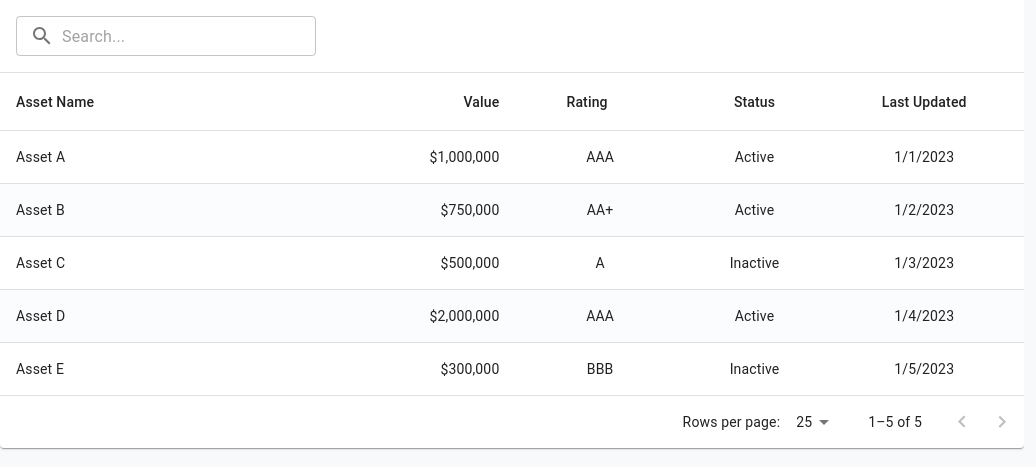
DataTable Component › handles sorting functionality
Note: Click on Name column header to sort
Step 1. Click the button "Asset Name" → (55, 102), box [16,94,94,110]
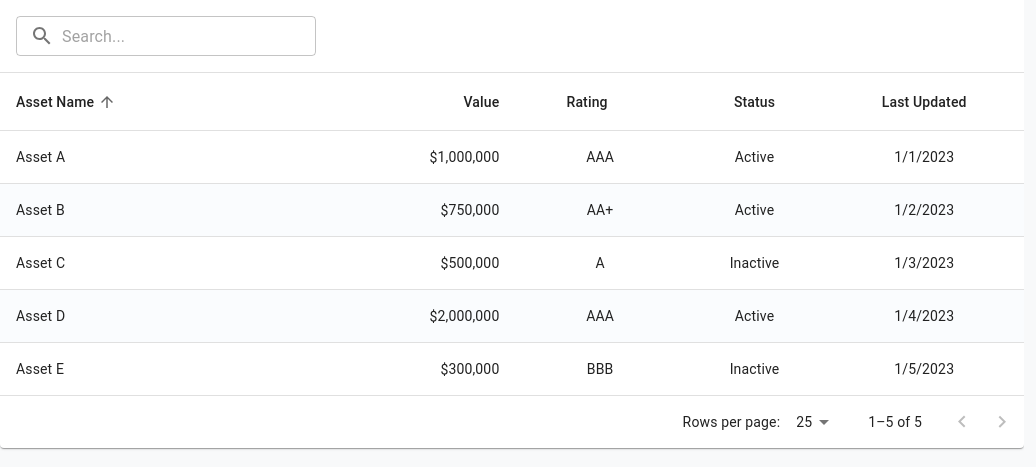
Expected: the row "Asset A $1,000,000 AAA Active 1/1/2023" is shown, [0,131,1024,184]
Note: Click again to reverse sort
Step 2. Click the button "Asset Name" → (68, 102), box [16,90,120,114]
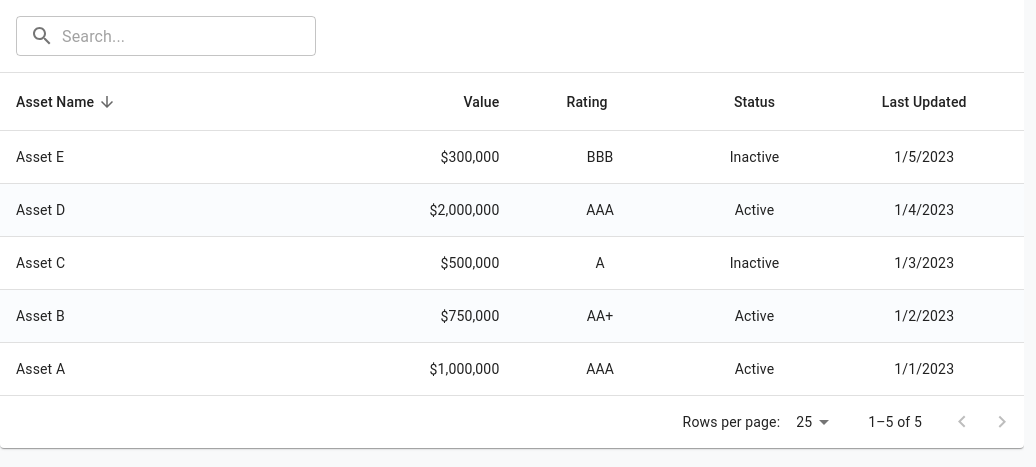
Result: the row "Asset E $300,000 BBB Inactive 1/5/2023" is shown at [0,131,1024,184]
